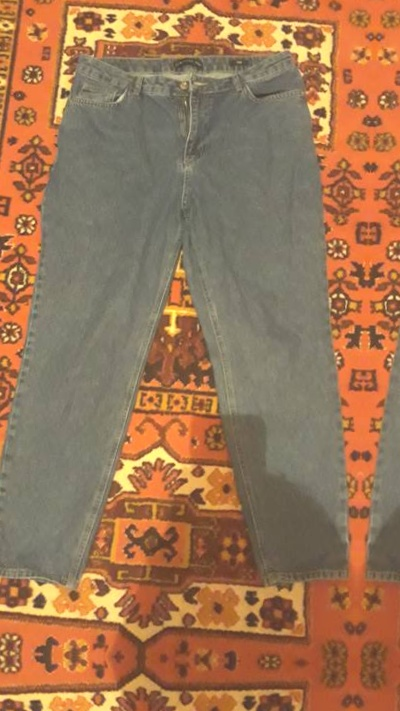Pants: (0, 36, 375, 621), (356, 48, 400, 633), (0, 698, 353, 711), (334, 710, 400, 711)
